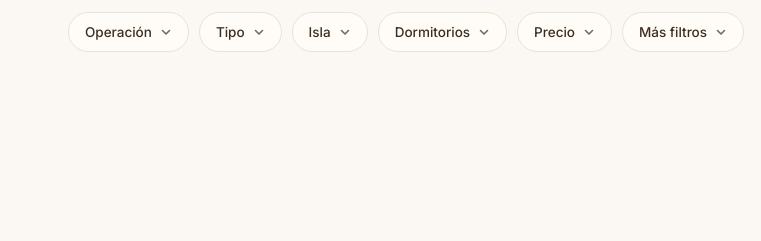
FilterBar › opens a dropdown and reveals its options on click
Expected: the option "Venta" is not shown
Click the button "Operación" at (128, 32), box [68,12,189,52]
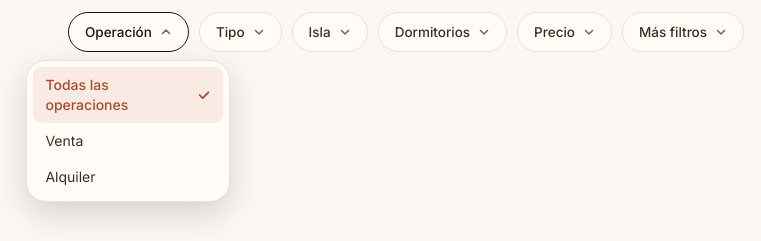
Expected: the option "Venta" is shown, [33,123,223,159]
Expected: the option "Alquiler" is shown, [33,159,223,195]
